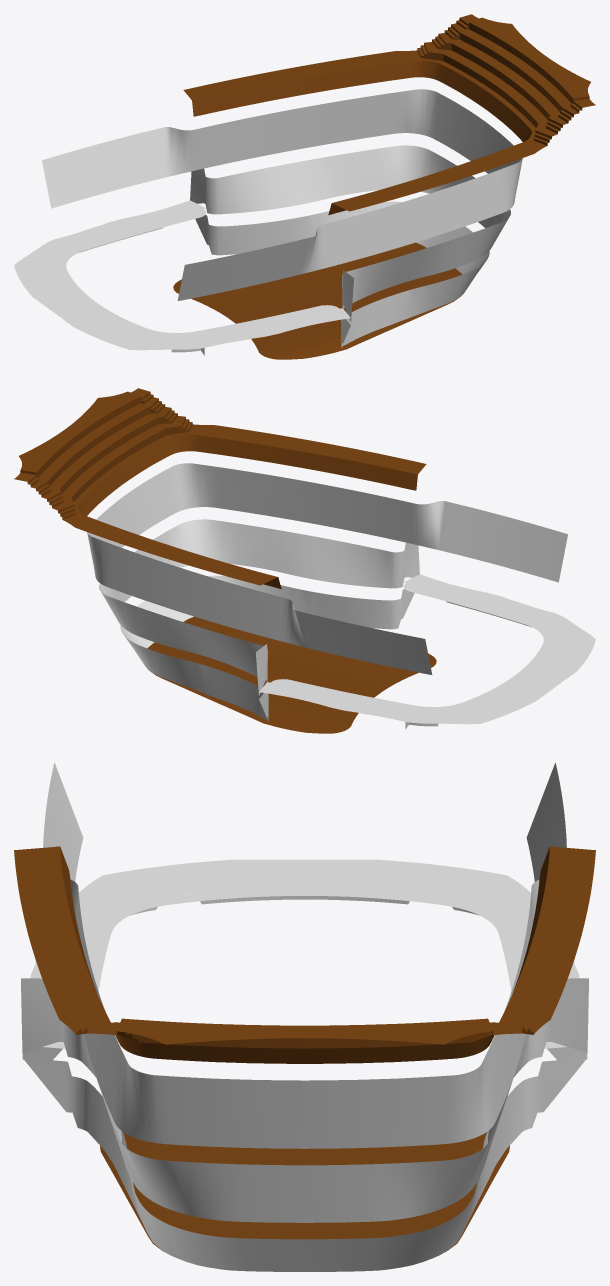
Rendered from sector-planes.glb.
3 renders of one model, top to bottom at view 1: azimuth 30°, elevation 25°; view 2: azimuth 150°, elevation 25°; view 3: azimuth 270°, elevation 25°, orthographic. The views are drawn at different scales.
Visible parts, largest first — view 1: D, E, C, choir, A, B; view 2: D, E, C, choir, A, B; view 3: D, E, C, choir, B, A.
Part boxes in pixels (x1,y1,x2,y2): D: (42,89,522,300); E: (183,14,595,215); C: (190,145,510,321); choir: (14,200,350,355); A: (173,242,462,359); B: (195,201,489,347); D: (87,463,567,674); E: (14,388,426,589); C: (99,519,419,695); choir: (259,574,595,729); A: (147,616,436,733); B: (120,575,414,721); D: (43,762,566,1148); E: (14,846,595,1063); C: (21,978,588,1222); choir: (22,859,587,1060); B: (23,1058,586,1271); A: (100,1132,509,1251).
Size of the model in its own units: 48.05 by 17.45 by 27.71.
